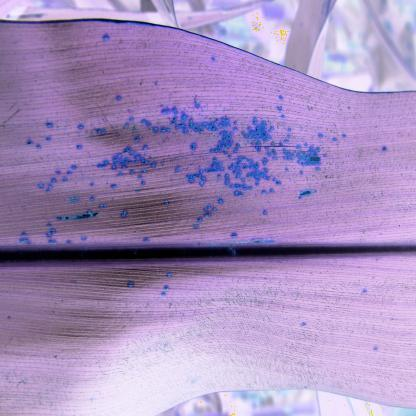Corn rust leaf: (5, 22, 412, 411)
